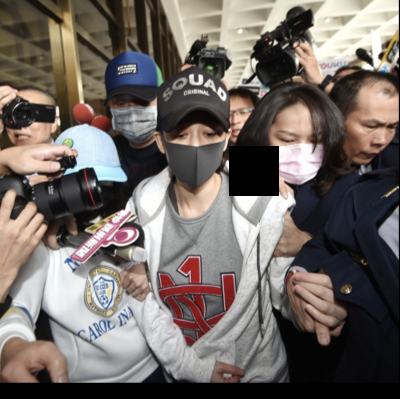with_mask: (160, 117, 225, 193), (265, 126, 324, 183), (108, 95, 159, 144)
without_mask: (341, 112, 398, 166), (5, 99, 53, 146), (227, 103, 253, 143)
